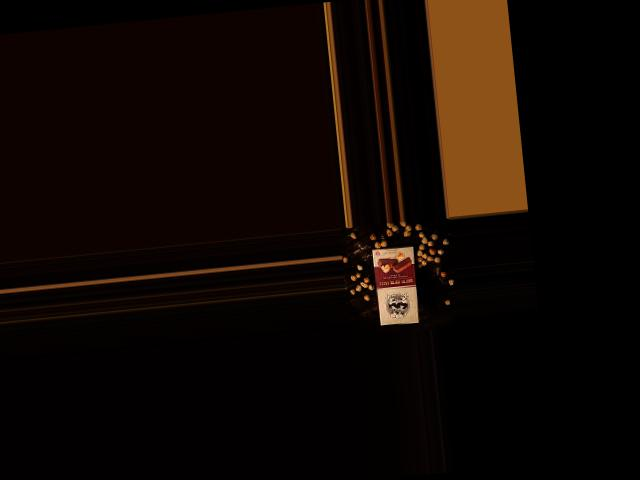chocolate: (369, 242, 424, 328)
